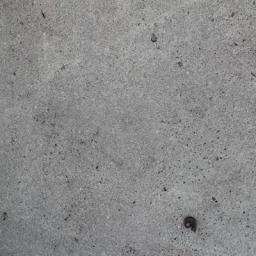FOD: (183, 215, 203, 236)
